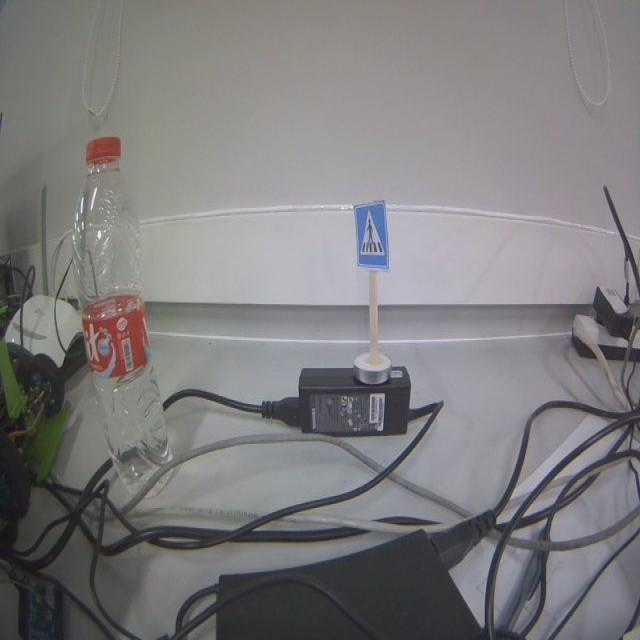Rambu Penyebrangan: (353, 199, 391, 272)
